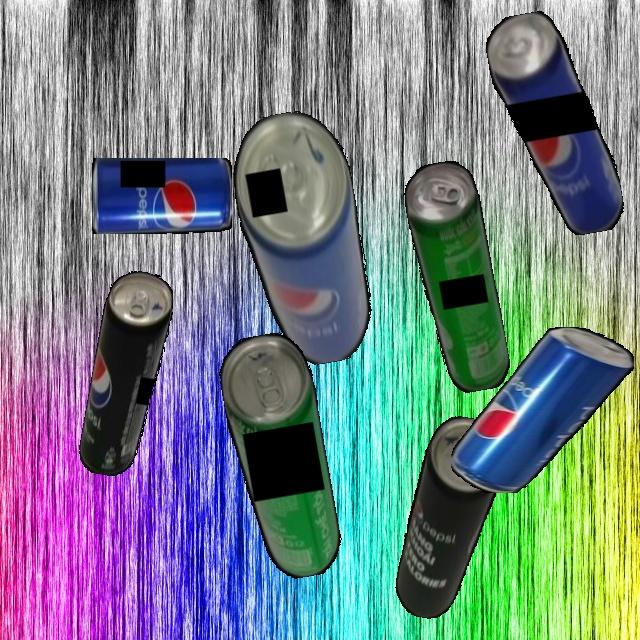debris: (223, 104, 382, 373), (482, 3, 627, 245), (214, 328, 347, 585), (451, 326, 634, 493), (400, 157, 513, 397), (391, 411, 509, 626), (76, 267, 178, 481), (91, 157, 232, 234)
